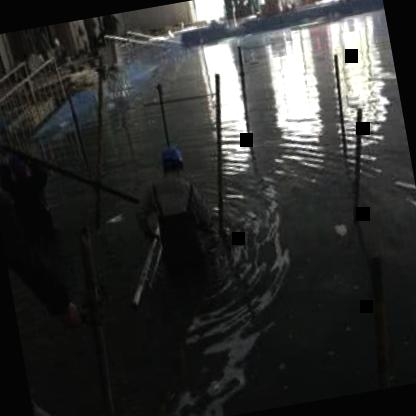helmet: (156, 138, 192, 186)
